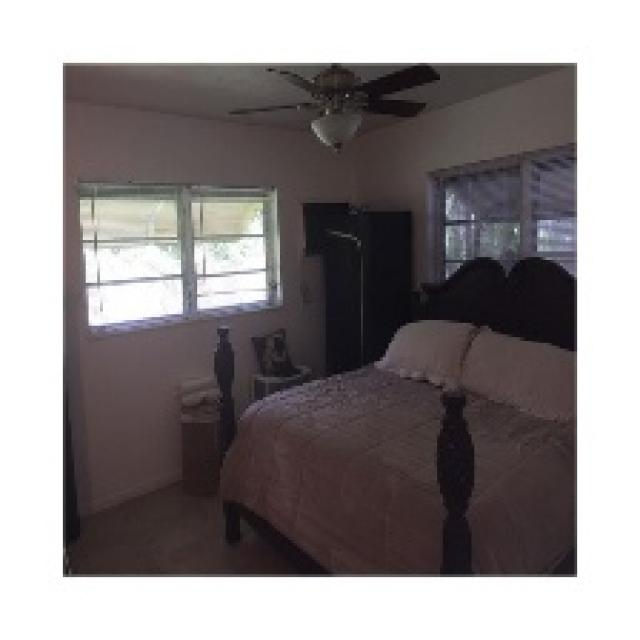Bed: (217, 255, 574, 574)
